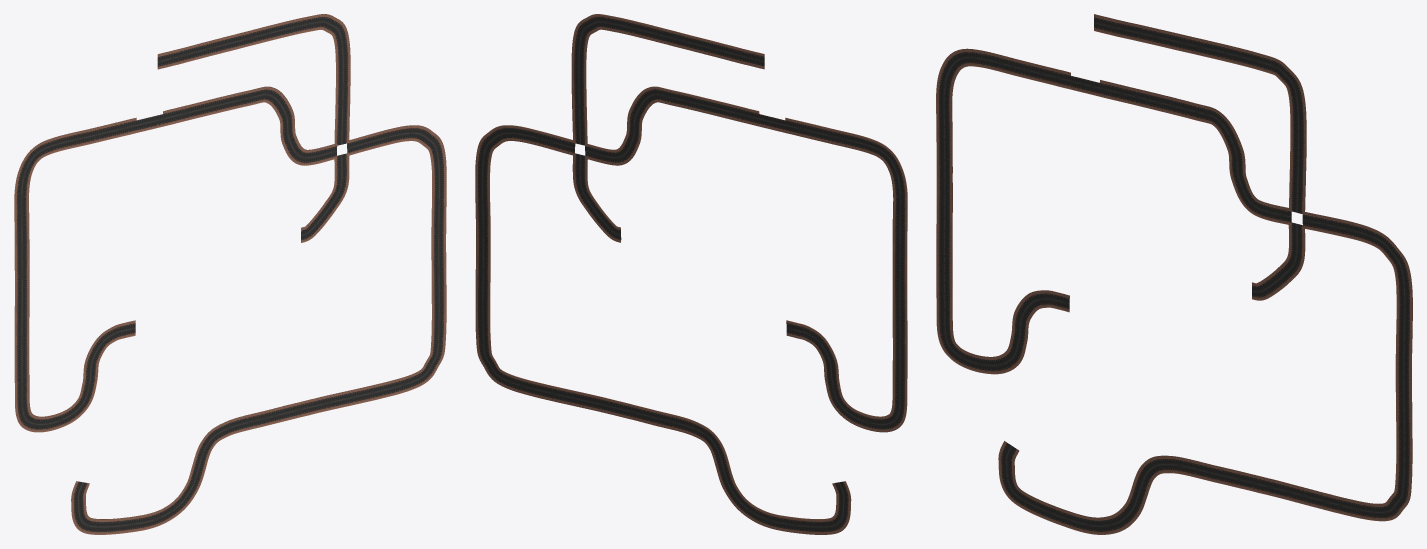
Rendered from StreetRoads.FBX.
The picture shows the model from 3 angles, left to right: view 1: azimuth 30°, elevation 25°; view 2: azimuth 150°, elevation 25°; view 3: azimuth 330°, elevation 25°; orthographic projection. The views are drawn at different scales.
Parts seen in each view (by area): view 1: RCC_Scene_City; view 2: RCC_Scene_City; view 3: RCC_Scene_City.
Part boxes in pixels (x1,y1,x2,y2): RCC_Scene_City: [14, 14, 446, 534]; RCC_Scene_City: [475, 14, 907, 534]; RCC_Scene_City: [936, 14, 1412, 534].
Bounding box in the file's own units: 11.92 × 12.49 × 0.0183.
1 material, 1 textured.
